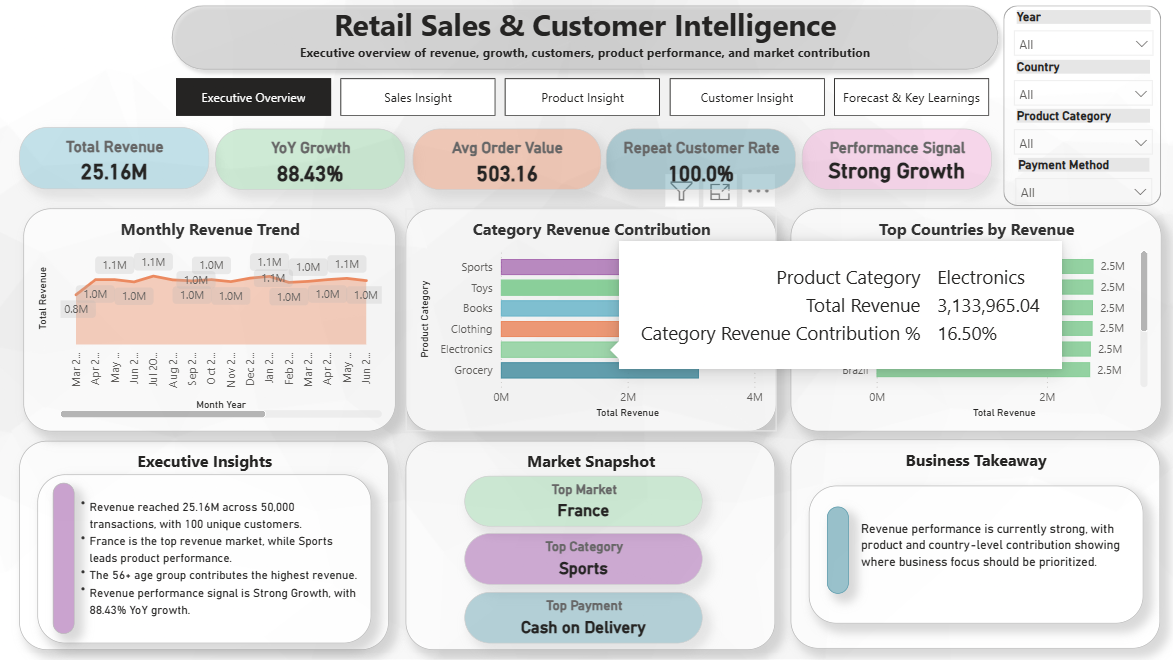

This screenshot's page, from the dashboard's own definition file:
{"tool":"powerbi","page":{"name":"Executive Overview","canvas":[1280,720],"ordinal":0},"visuals":[{"type":"shape","title":"Executive Insights","box":[27.7,480,400,226.2],"z":0},{"type":"shape","title":"Executive Revenue Summary","box":[47.5,516.2,361.2,182.5],"z":1000},{"type":"shape","box":[1093.1,9.2,170.8,217],"z":2000},{"type":"shape","box":[183.7,0,912.7,87.6],"z":3000},{"type":"textbox","box":[183.7,2.8,912.7,74.9],"z":4000},{"type":"pageNavigator","box":[197.1,88.6,882.9,41.4],"z":5000},{"type":"card","title":"Total Revenue","fields":{"Values":["Measure Table.Total Revenue"]},"box":[27.1,141.4,205.7,67.1],"z":6000},{"type":"lineChart","title":"Monthly Revenue Trend","fields":{"Category":["Dim Date.Month Year"],"Y":["Measure Table.Total Revenue"]},"box":[31.4,228.6,402.9,241.4],"z":7000},{"type":"clusteredBarChart","title":"Category Revenue Contribution","fields":{"Category":["Dim Product.Product Category"],"Y":["Measure Table.Total Revenue"]},"box":[446.2,228.5,401.5,241.5],"z":8000},{"type":"clusteredBarChart","title":"Top Countries by Revenue","fields":{"Category":["Dim Country.Country"],"Y":["Measure Table.Total Revenue"]},"box":[862.3,228.5,401.5,241.5],"z":9000},{"type":"card","title":"YoY Growth","fields":{"Values":["Measure Table.Revenue YoY Growth %"]},"box":[240,142.5,205.8,66.7],"z":10000},{"type":"card","title":"Avg Order Value","fields":{"Values":["Measure Table.Average Order Value"]},"box":[452.5,141.7,204.2,66.7],"z":11000},{"type":"card","title":"Repeat Customer Rate","fields":{"Values":["Measure Table.Repeat Customer Rate %"]},"box":[662.5,141.7,205.8,66.7],"z":12000},{"type":"card","title":"Performance Signal","fields":{"Values":["Measure Table.Revenue Performance Signal"]},"box":[874.2,141.7,205.8,66.7],"z":13000},{"type":"slicer","fields":{"Values":["Dim Country.Country"]},"box":[1094.2,65,170,56.7],"z":14000},{"type":"slicer","fields":{"Values":["Dim Date.Year"]},"box":[1093.3,9.2,170.8,61.7],"z":15000},{"type":"slicer","fields":{"Values":["Dim Product.Product Category"]},"box":[1094.2,118,170,55.8],"z":16000},{"type":"slicer","fields":{"Values":["Dim Payment Method.Payment Method"]},"box":[1096.2,171.5,167.7,56.9],"z":17000},{"type":"shape","title":"Market Snapshot","box":[445.5,480,400,226.4],"z":18000},{"type":"shape","title":"Business Takeaway","box":[862.7,479.1,400,226.4],"z":19000},{"type":"card","title":"Top Market","fields":{"Values":["Measure Table.Top Country by Revenue"]},"box":[509,518.2,258.2,55],"z":20000},{"type":"card","title":"Top Category","fields":{"Values":["Measure Table.Top Category by Revenue"]},"box":[509,580,258.2,55.5],"z":21000},{"type":"card","title":"Top Payment","fields":{"Values":["Measure Table.Top Payment Method by Revenue"]},"box":[509.1,643.6,258.2,55.5],"z":22000},{"type":"shape","title":"Market Leadership Insight","box":[881.8,528.2,361.8,149.1],"z":23000},{"type":"textbox","box":[932.9,560,291.4,100],"z":24000},{"type":"shape","title":"Market Leadership Insight","box":[901.1,552.2,23.3,94.4],"z":25000},{"type":"textbox","box":[77.7,518.5,322.1,171],"z":26000},{"type":"shape","title":"Market Leadership Insight","box":[63.8,525,23.8,163.8],"z":27000}]}

Visuals, with their boxes in screenshot pixels (x1, y1, x2, y2), scaled from the page's 1280x720 canvas onto the 1173x660 screenshot:
"Executive Insights" shape: left=25, top=440, right=392, bottom=647
"Executive Revenue Summary" shape: left=44, top=473, right=375, bottom=640
shape: left=1002, top=8, right=1158, bottom=207
shape: left=168, top=0, right=1005, bottom=80
textbox: left=168, top=3, right=1005, bottom=71
pageNavigator: left=181, top=81, right=990, bottom=119
"Total Revenue" card: left=25, top=130, right=213, bottom=191
"Monthly Revenue Trend" lineChart: left=29, top=210, right=398, bottom=431
"Category Revenue Contribution" clusteredBarChart: left=409, top=209, right=777, bottom=431
"Top Countries by Revenue" clusteredBarChart: left=790, top=209, right=1158, bottom=431
"YoY Growth" card: left=220, top=131, right=409, bottom=192
"Avg Order Value" card: left=415, top=130, right=602, bottom=191
"Repeat Customer Rate" card: left=607, top=130, right=796, bottom=191
"Performance Signal" card: left=801, top=130, right=990, bottom=191
slicer - Dim Country.Country: left=1003, top=60, right=1159, bottom=112
slicer - Dim Date.Year: left=1002, top=8, right=1158, bottom=65
slicer - Dim Product.Product Category: left=1003, top=108, right=1159, bottom=159
slicer - Dim Payment Method.Payment Method: left=1005, top=157, right=1158, bottom=209
"Market Snapshot" shape: left=408, top=440, right=775, bottom=648
"Business Takeaway" shape: left=791, top=439, right=1157, bottom=647
"Top Market" card: left=466, top=475, right=703, bottom=525
"Top Category" card: left=466, top=532, right=703, bottom=583
"Top Payment" card: left=467, top=590, right=703, bottom=641
"Market Leadership Insight" shape: left=808, top=484, right=1140, bottom=621
textbox: left=855, top=513, right=1122, bottom=605
"Market Leadership Insight" shape: left=826, top=506, right=847, bottom=593
textbox: left=71, top=475, right=366, bottom=632
"Market Leadership Insight" shape: left=58, top=481, right=80, bottom=631
